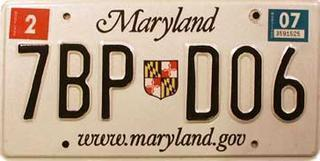placa de veiculo: (3, 2, 312, 156)
